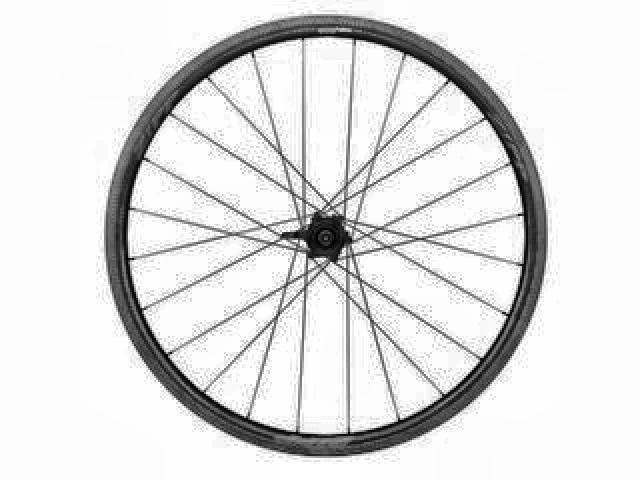wheel: (104, 14, 549, 460)
